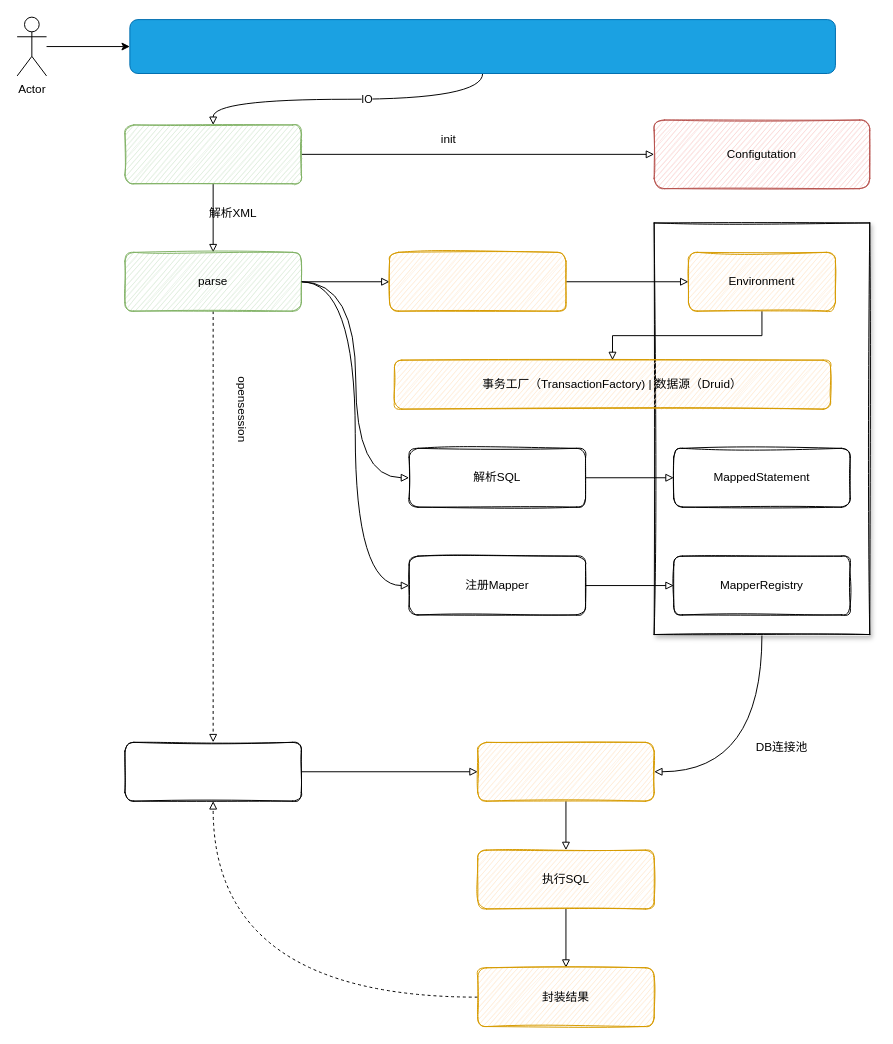
Some shapes in this 893 by 1044 pixel diagram are drawn without their labels. Each missing label, with the centre of its shape:
"DefaultSqlSession" goes at point 212,771.
"selectOne" goes at point 565,771.
"SqlSessionFactoryBuilder" goes at point 482,46.
"XMLConfigBuilder" goes at point 212,154.
"解析连接池" goes at point 477,281.
